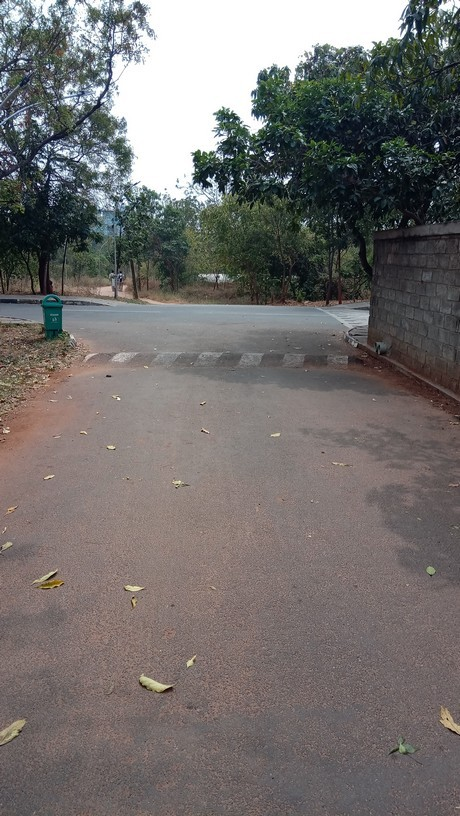bump: (63, 347, 375, 372)
